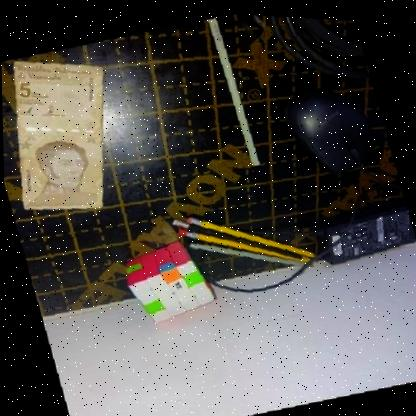five-front-vef: (1, 42, 133, 222)
